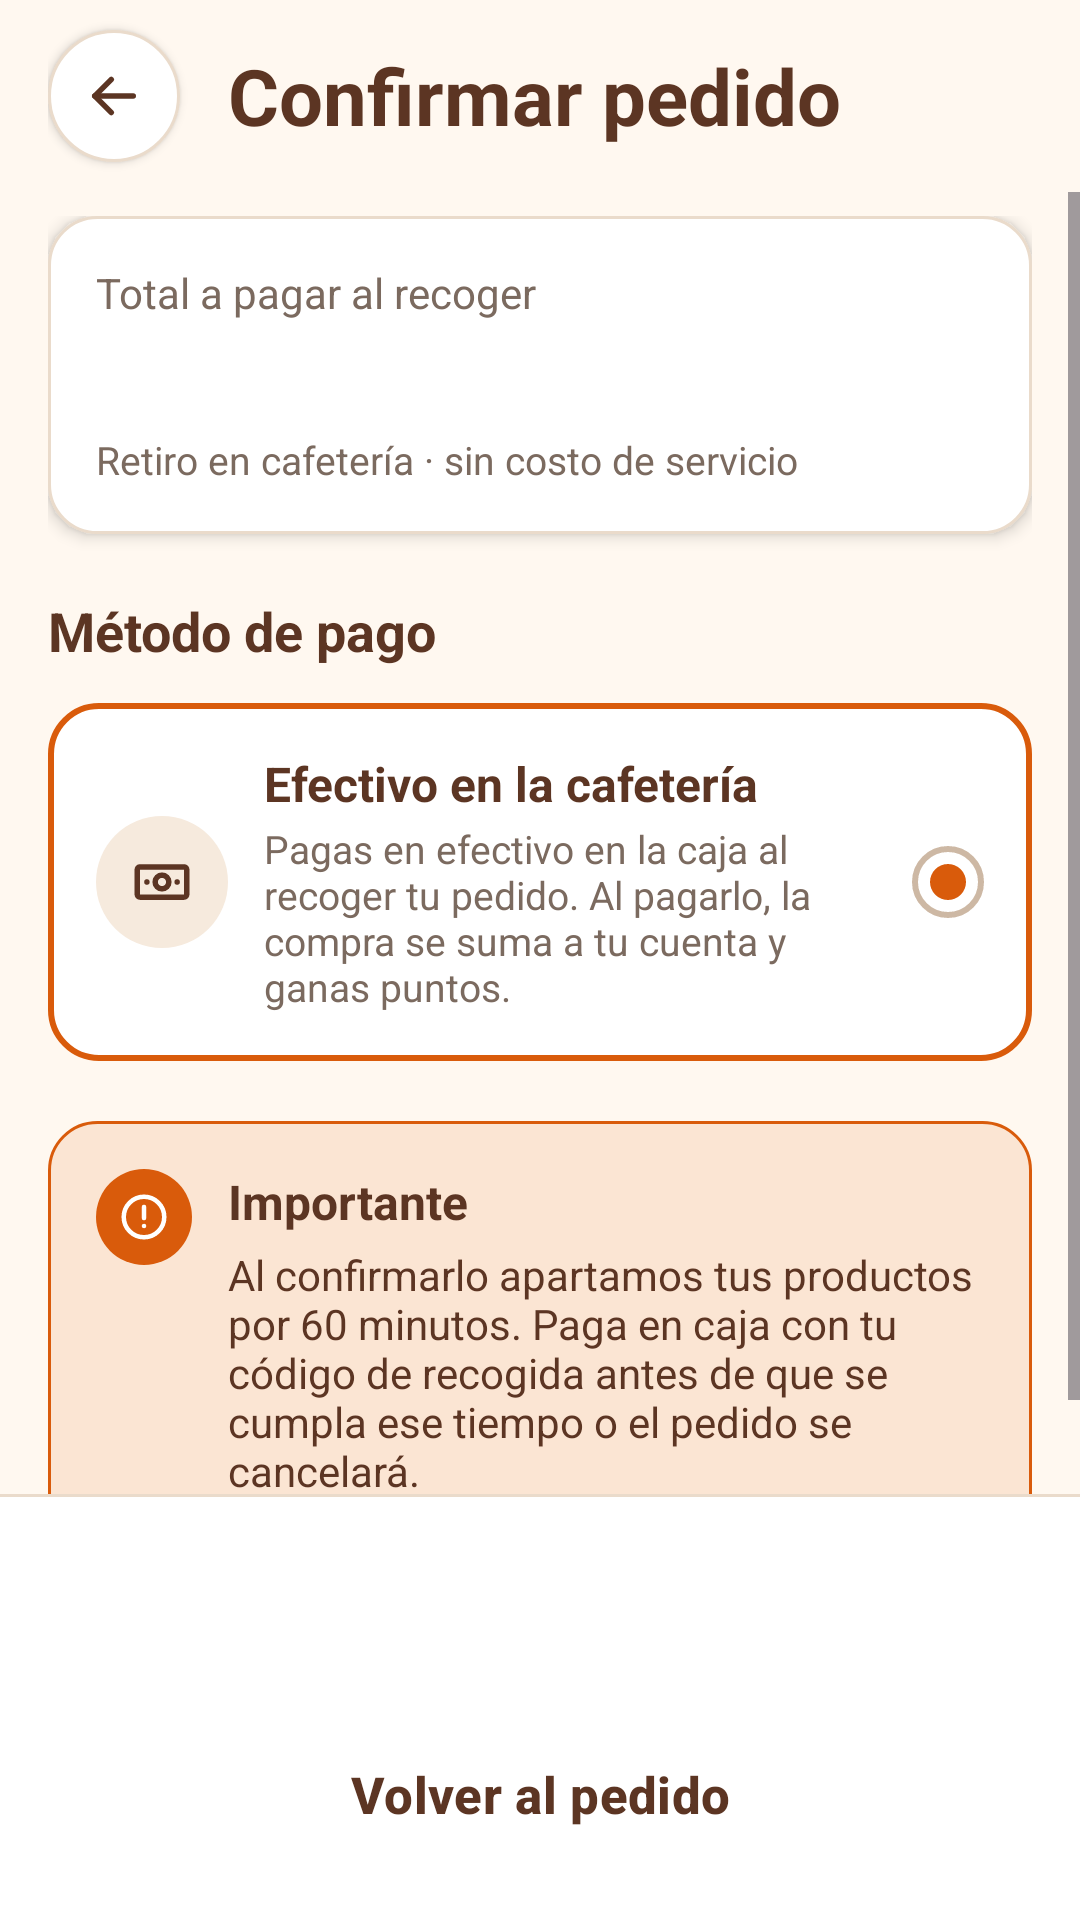

Where to tap for icons on this 1080×1920 app screen, as point (x, y):
alerta: point (144, 1217)
atras: point (114, 96)
